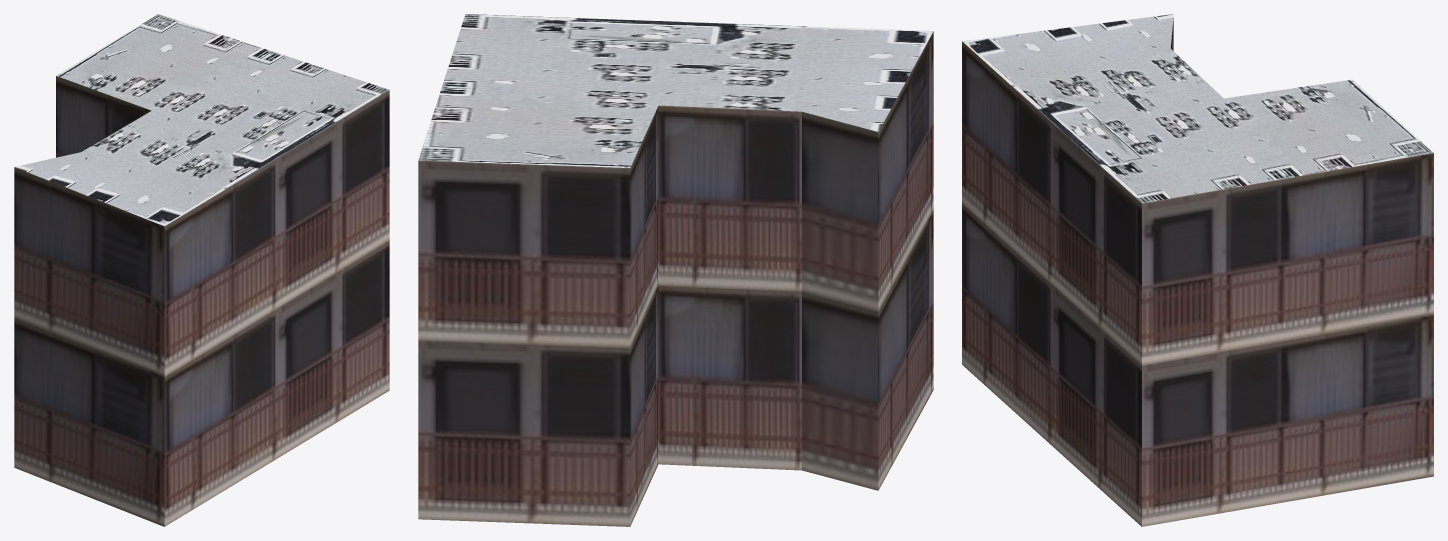
Rendered from ResTex__2827.fbx.
The picture shows the model from 3 angles, left to right: view 1: azimuth 30°, elevation 25°; view 2: azimuth 150°, elevation 25°; view 3: azimuth 270°, elevation 25°; orthographic projection. The views are drawn at different scales.
Visible parts, largest first — view 1: CityEngineMaterial_6_m, CityEngineMaterial_8_m; view 2: CityEngineMaterial_6_m, CityEngineMaterial_8_m; view 3: CityEngineMaterial_6_m, CityEngineMaterial_8_m.
Boxes of the visible parts, bbox=[...] form: CityEngineMaterial_6_m: bbox=[14, 76, 389, 526]; CityEngineMaterial_8_m: bbox=[14, 14, 389, 226]; CityEngineMaterial_6_m: bbox=[418, 31, 933, 526]; CityEngineMaterial_8_m: bbox=[418, 14, 933, 167]; CityEngineMaterial_6_m: bbox=[962, 17, 1433, 526]; CityEngineMaterial_8_m: bbox=[962, 14, 1433, 203].
Bounding box in the file's own units: 7.54 × 6 × 7.93.
Materials: 2 (2 with a texture image).
